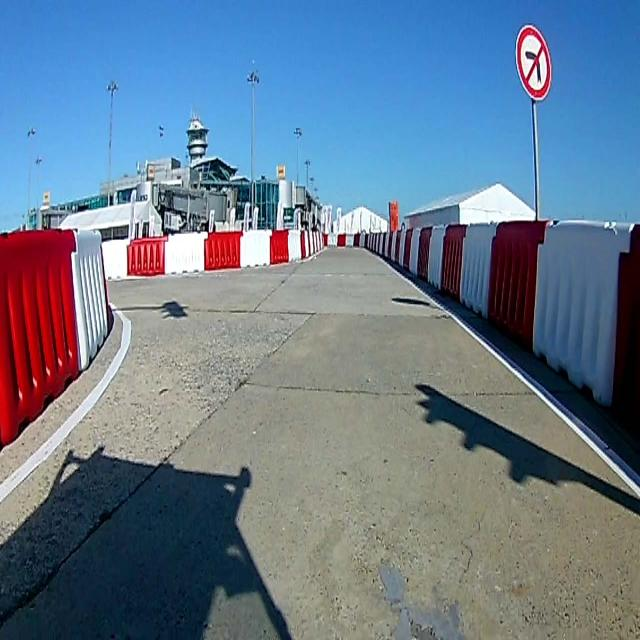soladonulmez: (517, 25, 551, 99)
